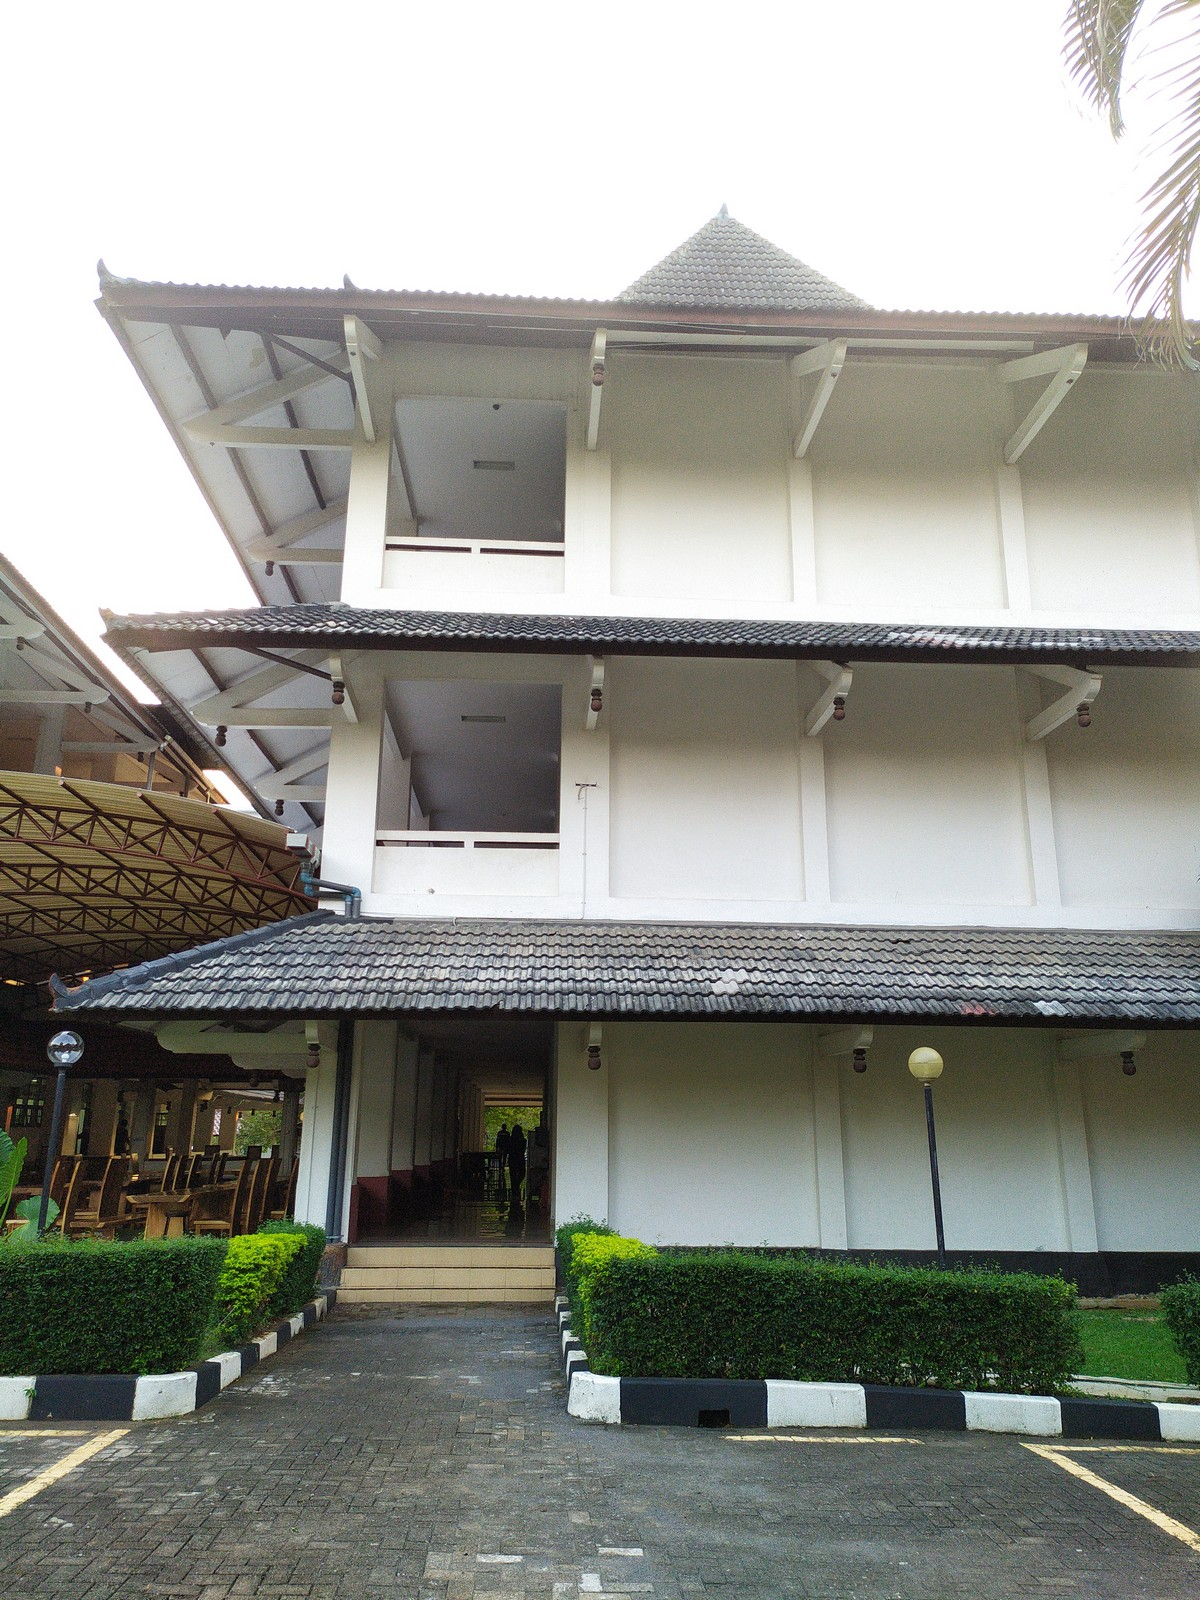concrete beam: (229, 417, 368, 459), (1001, 386, 1066, 464), (239, 700, 342, 738)
concrete column: (316, 675, 387, 918), (555, 670, 621, 912), (550, 1024, 620, 1238), (1047, 1043, 1113, 1255), (553, 396, 618, 609), (1011, 698, 1075, 910), (987, 380, 1044, 617), (337, 391, 400, 600), (803, 1038, 858, 1249), (779, 384, 827, 620), (792, 682, 839, 910)
